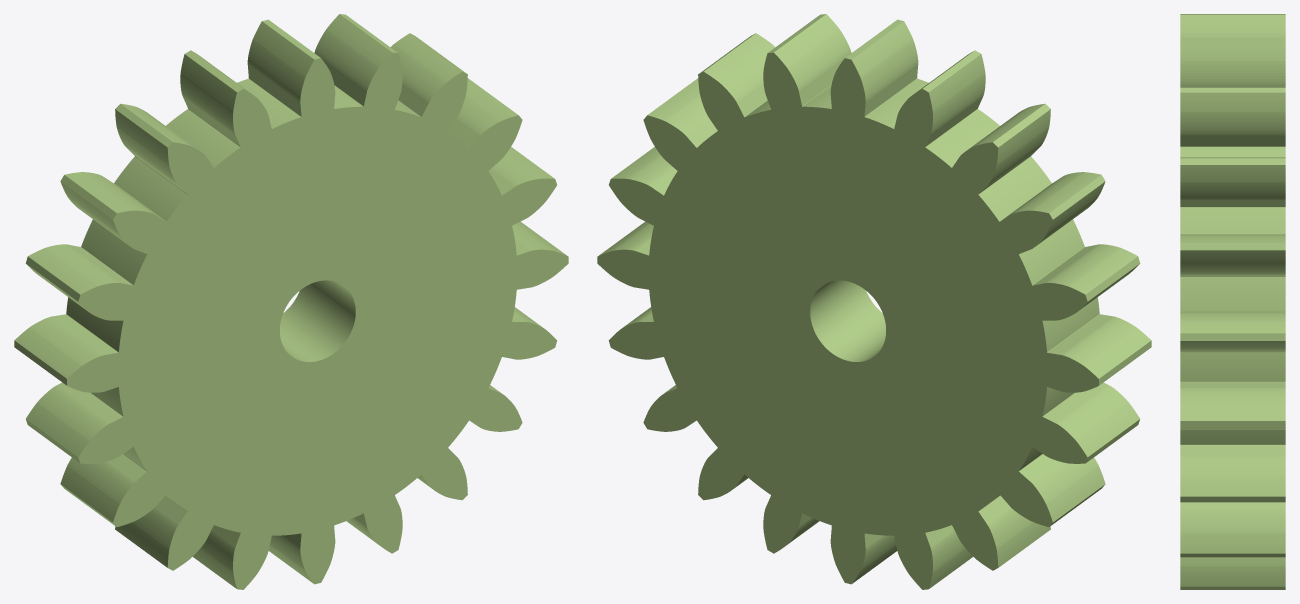
The model's file is spur_gear_mesh_demo.glb.
The picture shows the model from 3 angles, left to right: view 1: azimuth 30°, elevation 25°; view 2: azimuth 150°, elevation 25°; view 3: azimuth 270°, elevation 25°; orthographic projection.
Visible parts, largest first — view 1: 20_tooth_gear; view 2: 20_tooth_gear; view 3: 20_tooth_gear.
Part boxes in pixels (bbox=[...]): 20_tooth_gear: bbox=[14, 14, 568, 589]; 20_tooth_gear: bbox=[597, 14, 1151, 589]; 20_tooth_gear: bbox=[1180, 14, 1285, 589].
Size of the model in its own units: 33 by 33 by 6.
